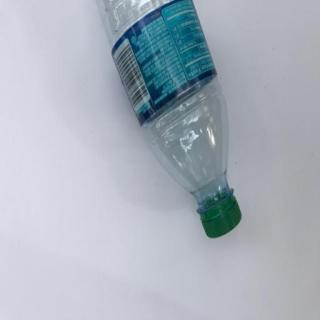Plastic-bottle: (95, 2, 246, 242)
